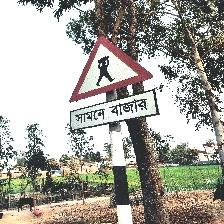Market-in-front: (68, 35, 158, 131)
